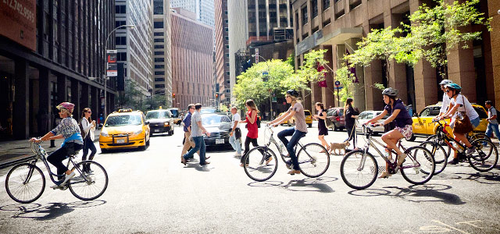bikerider: (4, 99, 111, 212), (338, 84, 432, 191), (239, 89, 332, 185), (423, 75, 500, 171)
